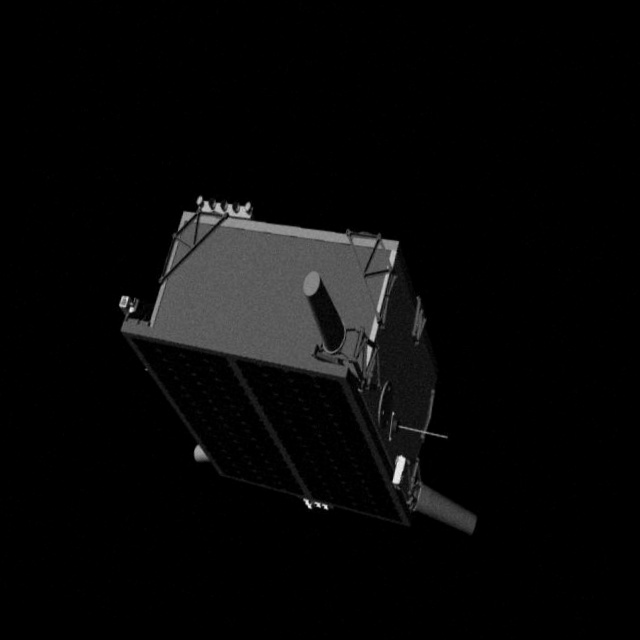satellite: (81, 187, 514, 555)
